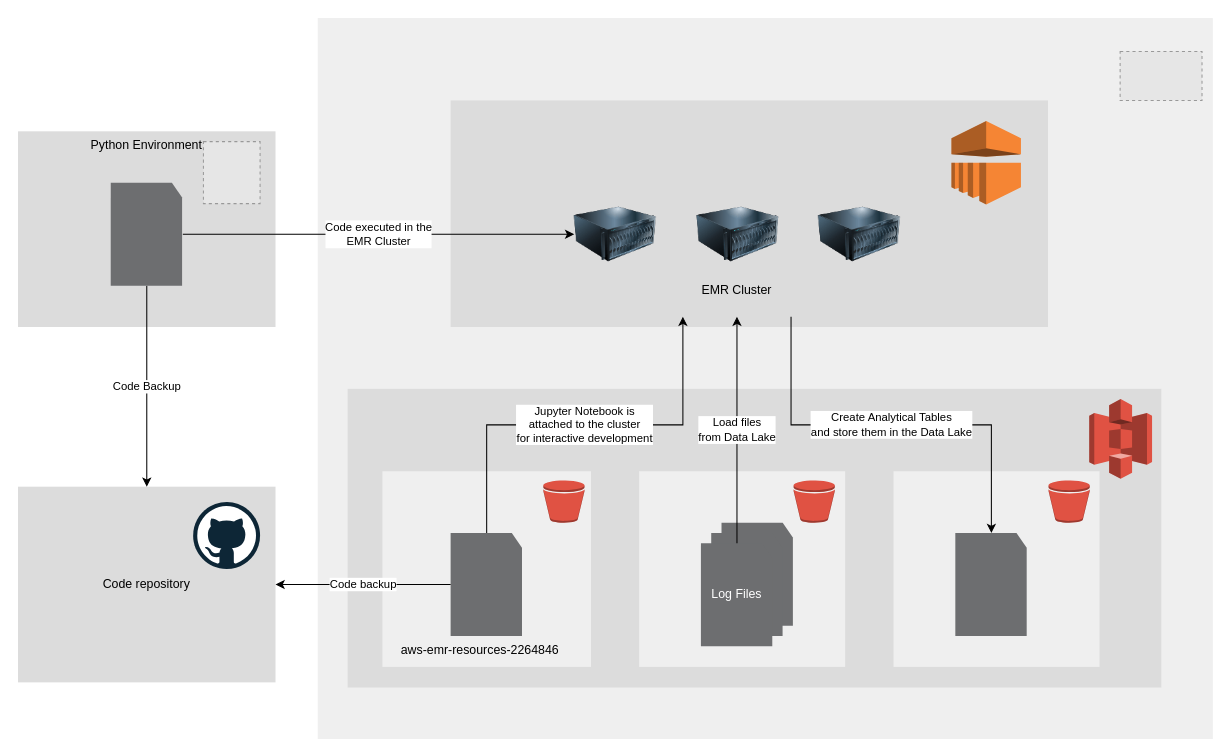
Some shapes in this 1230 by 756 pixel diagram are drawn without their labels. Grey dashed boxes stand in for pictures. The centre of each missing label's shape, as x and y in pixels:
"*.ipynb" goes at (x=486, y=584).
"Analytic Tables" goes at (x=991, y=584).
"etl.py" goes at (x=146, y=233).
